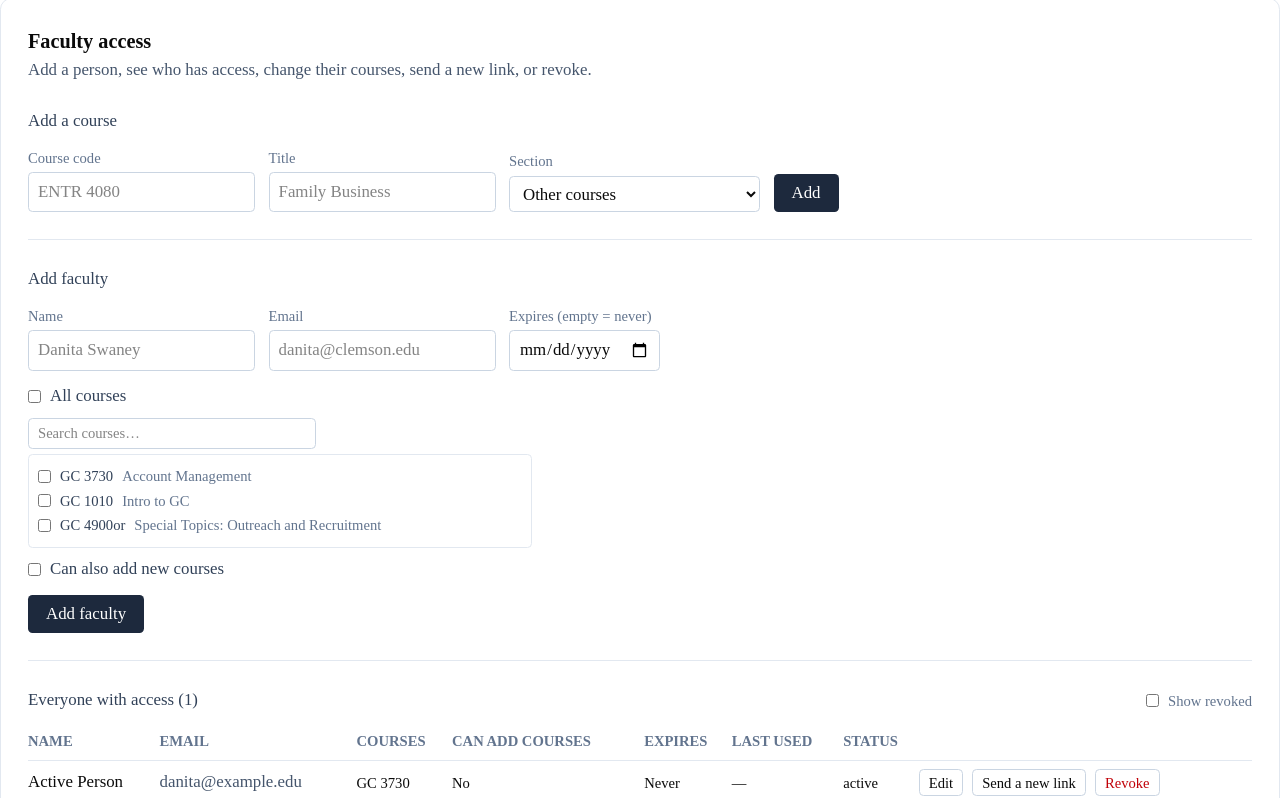
Test: AccessPanel › revoked rows are hidden by default, and the "Show revoked" toggle reveals them
Check: the text "Revoked Person" is not shown
Click the checkbox labelled "Show revoked". click: (1152, 701)
box: [1146,694,1159,707]
(page scrolled)
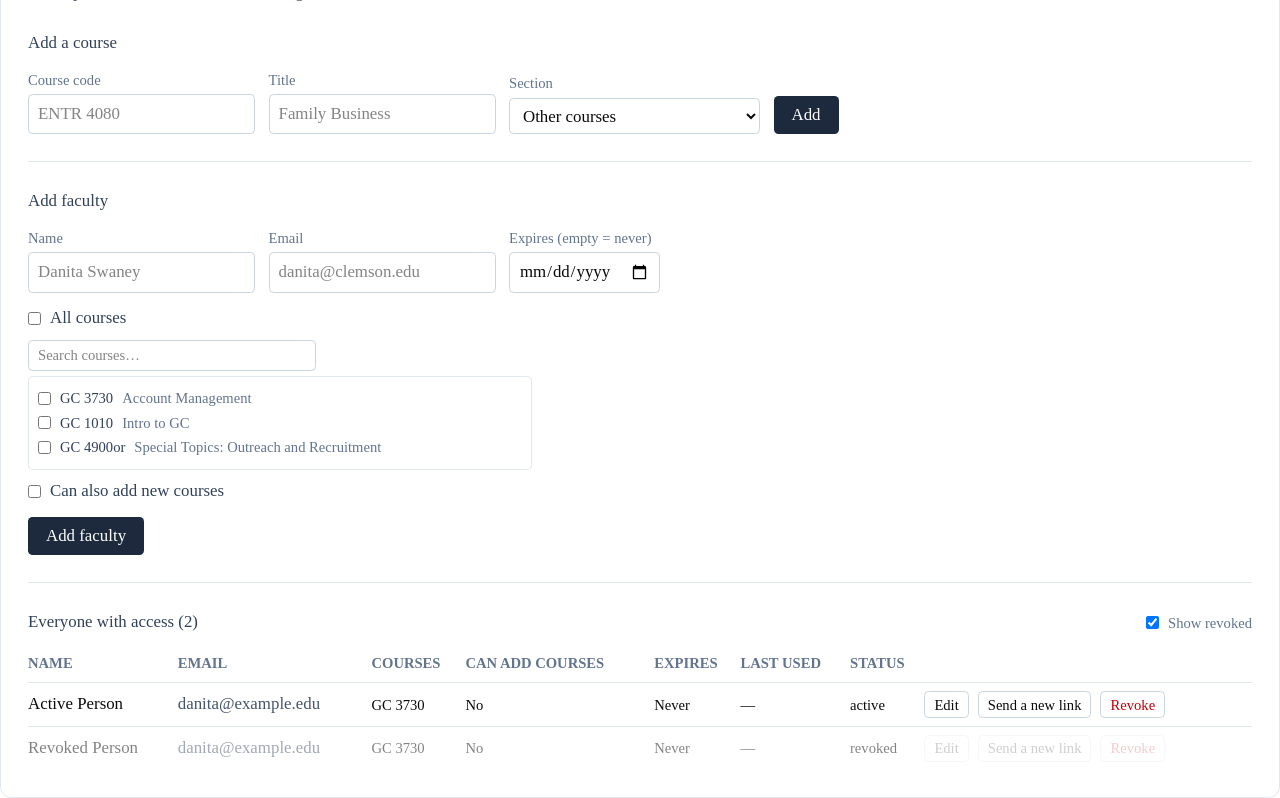
Check: the text "Revoked Person" is shown, box [28,727,178,770]
